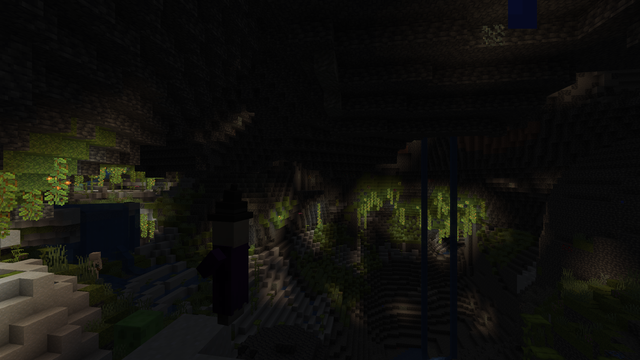slimes: (113, 307, 164, 354)
sorcieres: (207, 213, 252, 329)
squelettes: (87, 251, 101, 279)
